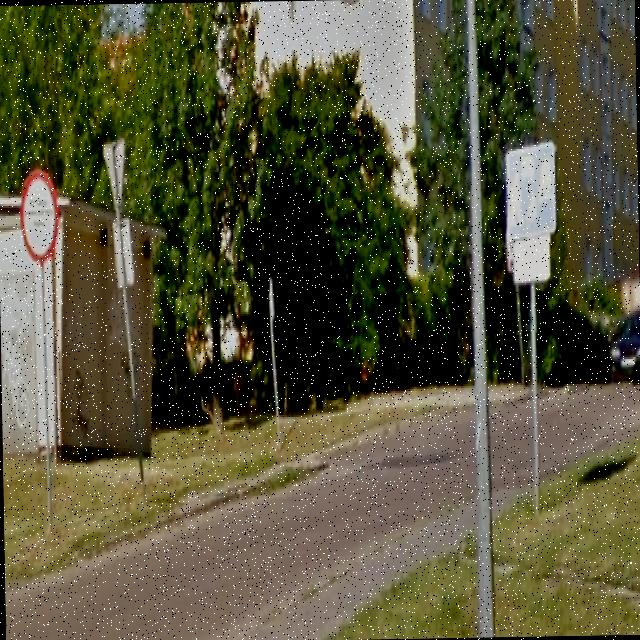Zakaz ruchu w obu kierunkach: (18, 166, 59, 262)
